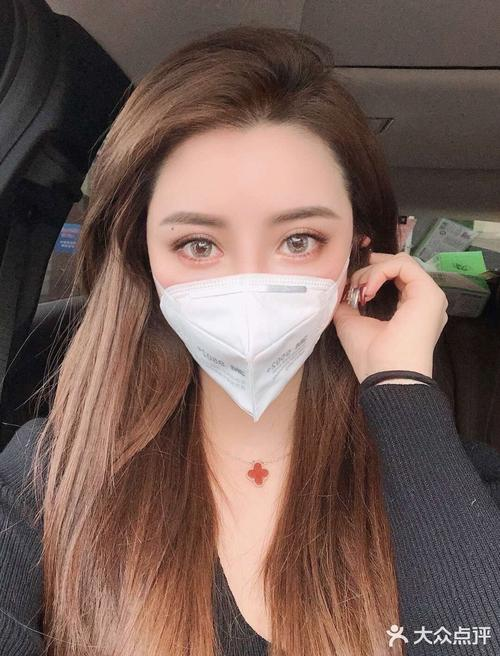mask: (153, 111, 354, 403)
